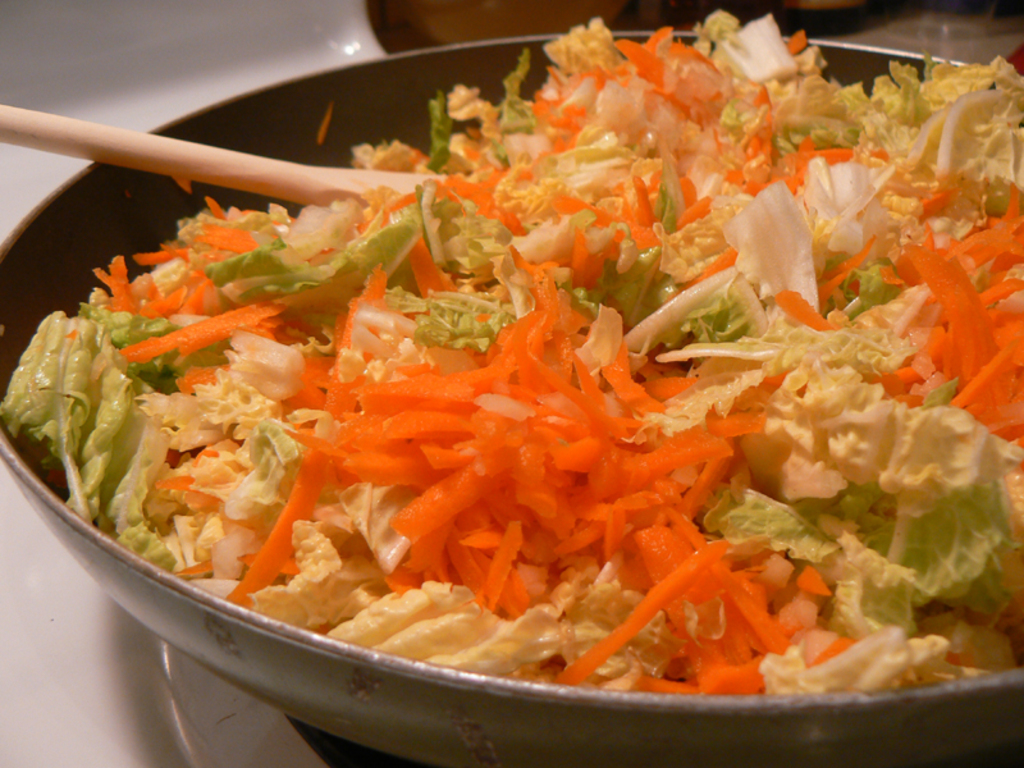Cabbage: (0, 8, 1024, 695)
